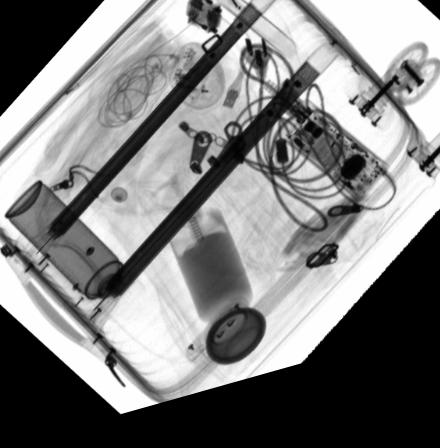Sprayer: (5, 182, 146, 328)
